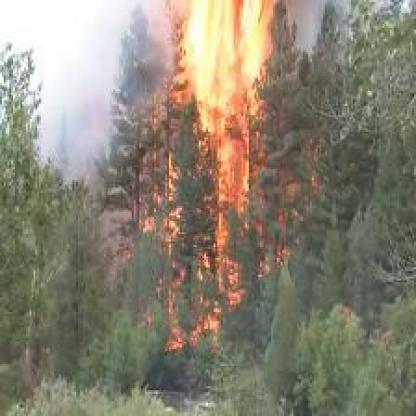fire: (94, 0, 345, 358)
